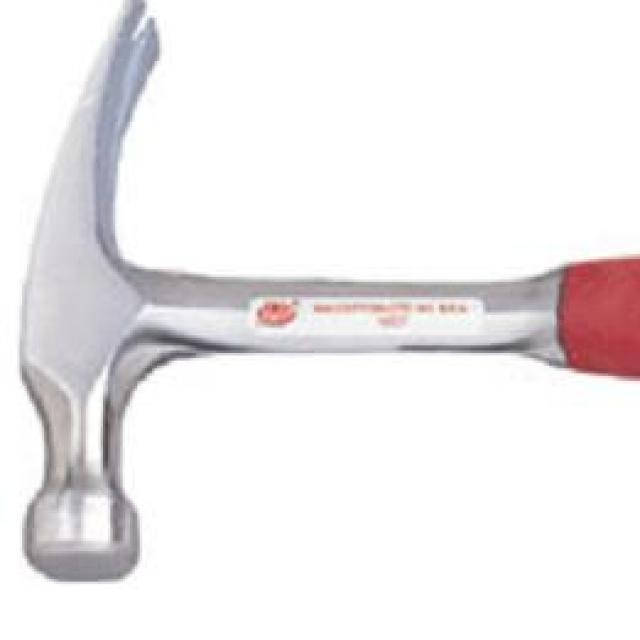hammer: (6, 0, 640, 585)
